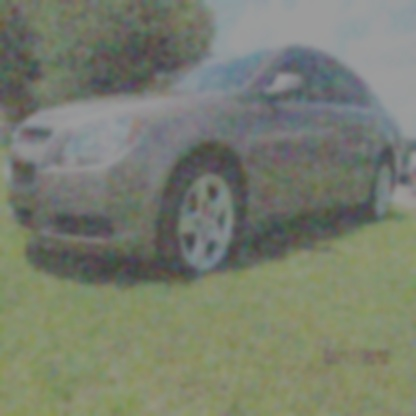Vehicle: (3, 43, 408, 285)
